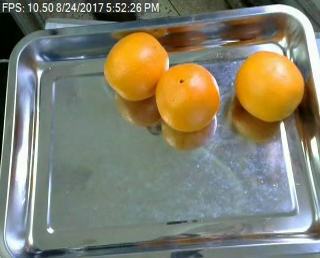Orange: (236, 50, 305, 120), (156, 61, 220, 133), (104, 31, 168, 101)
